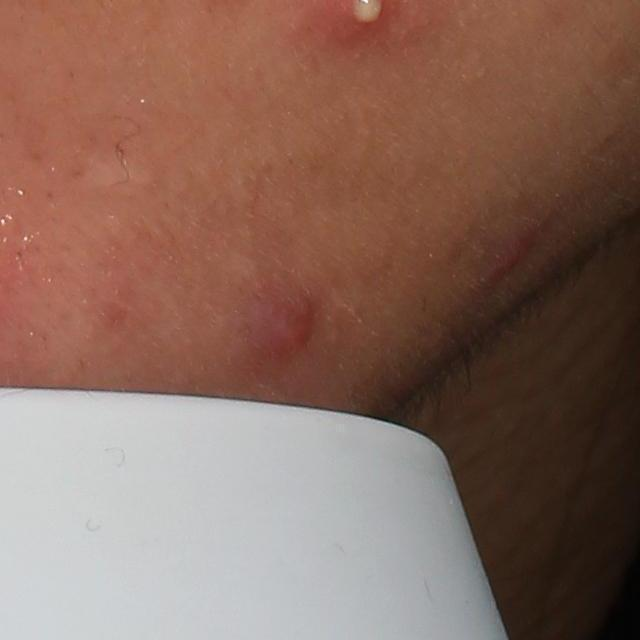hypertrophic_scar: (83, 147, 153, 194)
papule: (260, 285, 319, 355), (487, 232, 540, 282)
